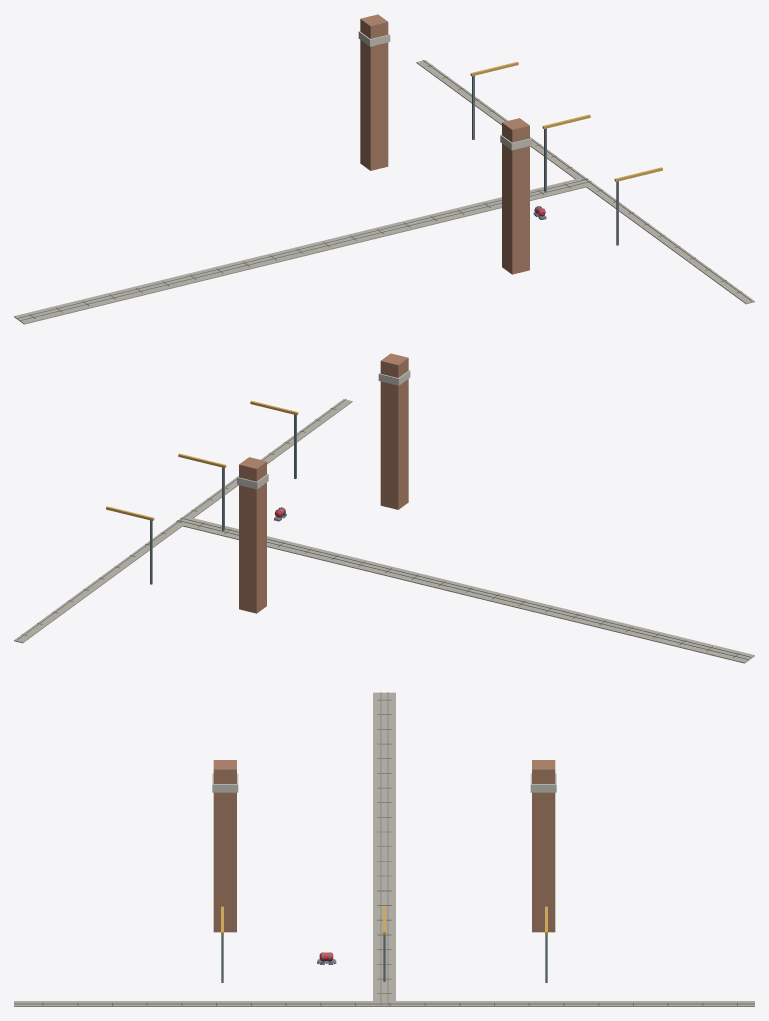
File: valley-7-12.glb
3 renders of one model, top to bottom at view 1: azimuth 30°, elevation 25°; view 2: azimuth 150°, elevation 25°; view 3: azimuth 270°, elevation 25°, orthographic. The views are drawn at different scales.
Visible parts, largest first — view 1: valley-7-12; view 2: valley-7-12; view 3: valley-7-12.
Boxes of the visible parts, x1,y1,x2,y2 form: valley-7-12: (14, 14, 754, 324); valley-7-12: (14, 353, 754, 663); valley-7-12: (14, 692, 754, 1006).
Bounding box in the file's own units: 256 × 62 × 256.
Materials: 9 (3 with a texture image).
